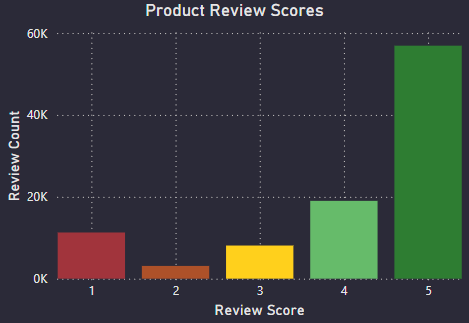

The dashboard page shown, as its layout file describes it:
{"tool":"powerbi","page":{"name":"review_score_distribution","canvas":[1280,720],"ordinal":15},"visuals":[{"type":"clusteredColumnChart","title":"Product Review Scores","fields":{"Category":["review_score_distribution.review_score"],"Y":["Sum(review_score_distribution.total_reviews)"]},"box":[408.5,198.4,462,322.9],"z":0}]}

Visuals, with their boxes on the page's 1280x720 design canvas (x1, y1, x2, y2). These are canvas units, not pixel positions in the 469x323 screenshot, which may show the page scaled, cropped or inside an application window:
"Product Review Scores" clusteredColumnChart: [left=408, top=198, right=870, bottom=521]
